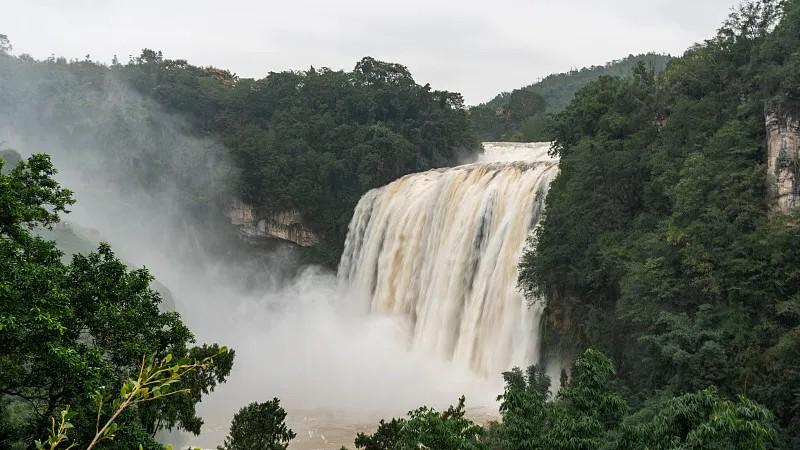Huangguoshu: (339, 140, 563, 372)
